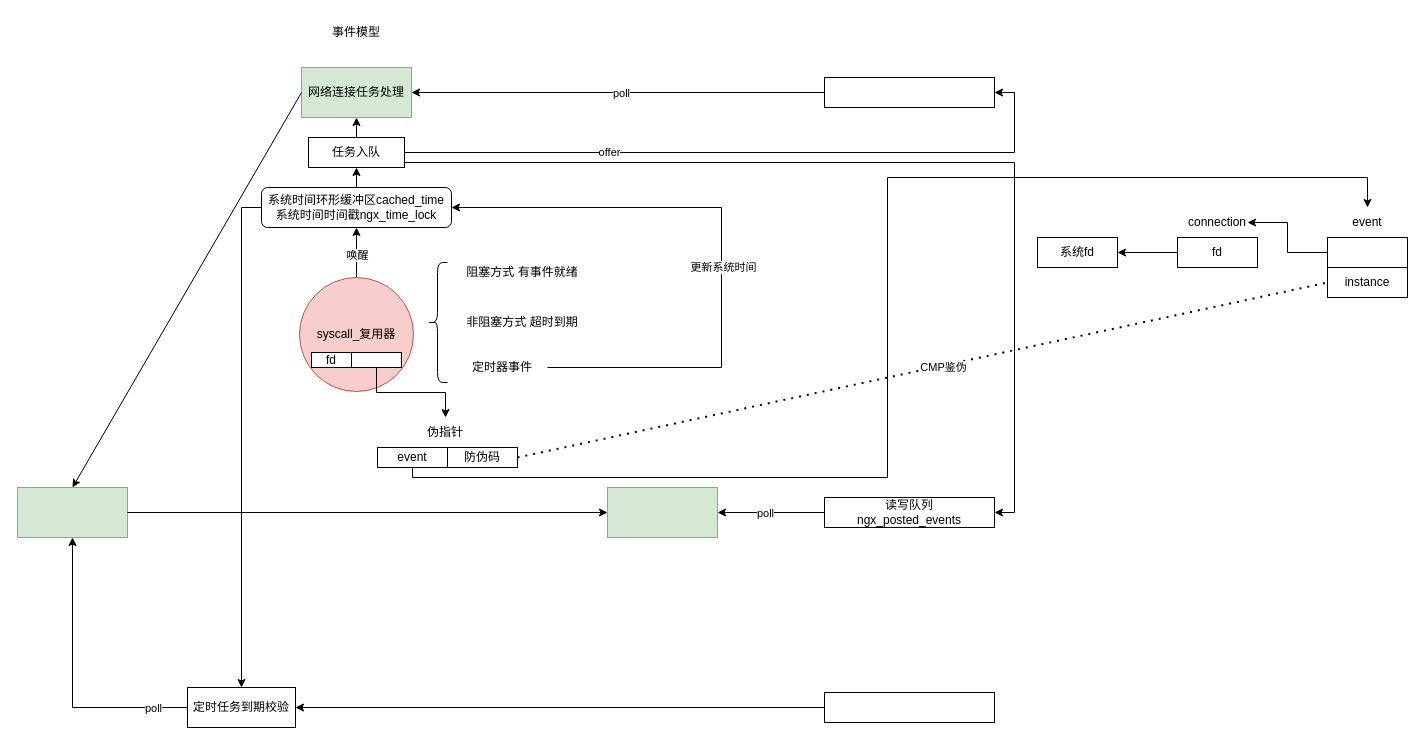
Image size: 1425x745. Some labels were removed from this diagram. The shapes that lost their labels are listed below. From the top down, each one's centre as x and y in pixels, then its label:
At point 909,92: "accept队列ngx_posted_accept_events".
At point 1367,252: "data".
At point 376,360: "udata".
At point 72,512: "定时任务处理".
At point 662,512: "网络读写任务处理".
At point 909,707: "定时任务ngx_event_timer_rbtree".
